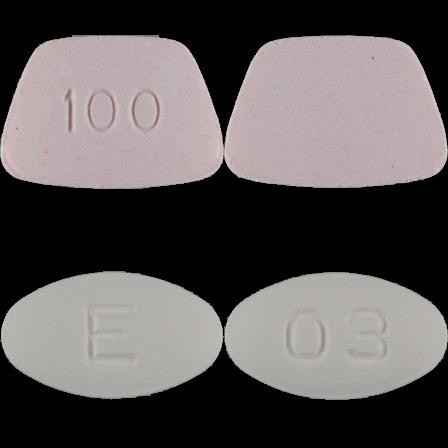50090-2060: (0, 0, 224, 224)
